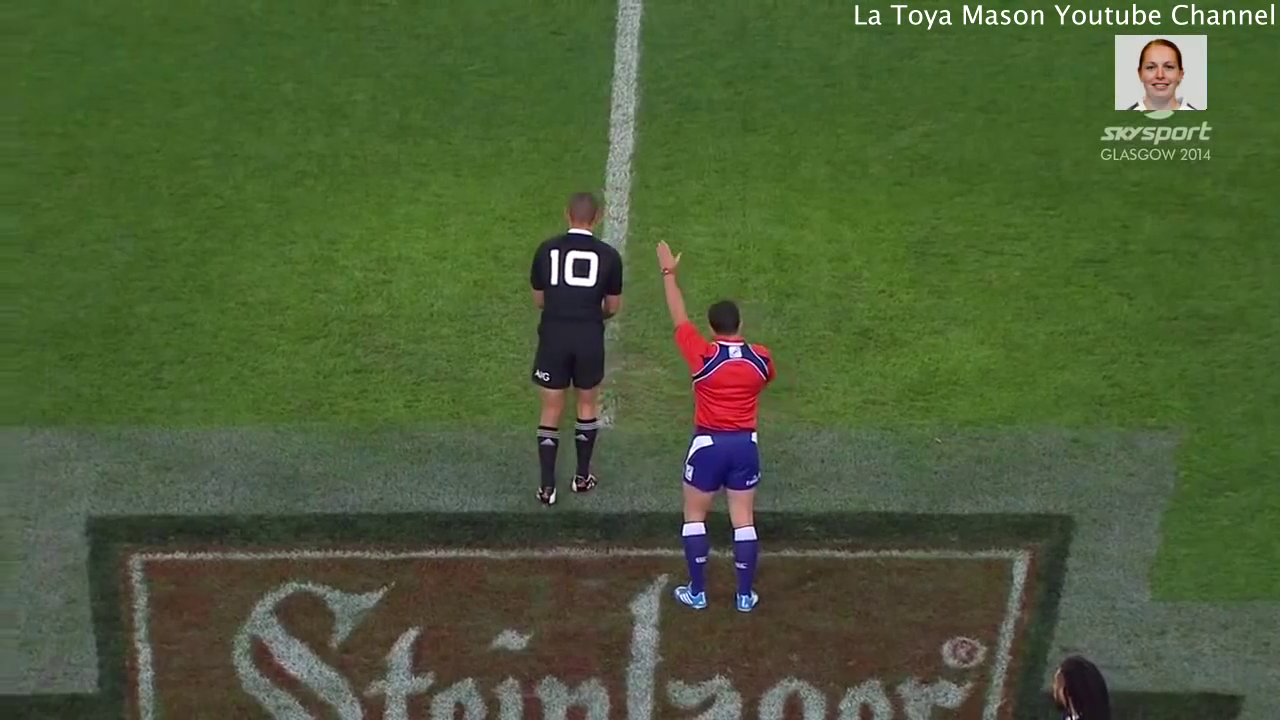player: (651, 233, 787, 617), (519, 190, 625, 515)
